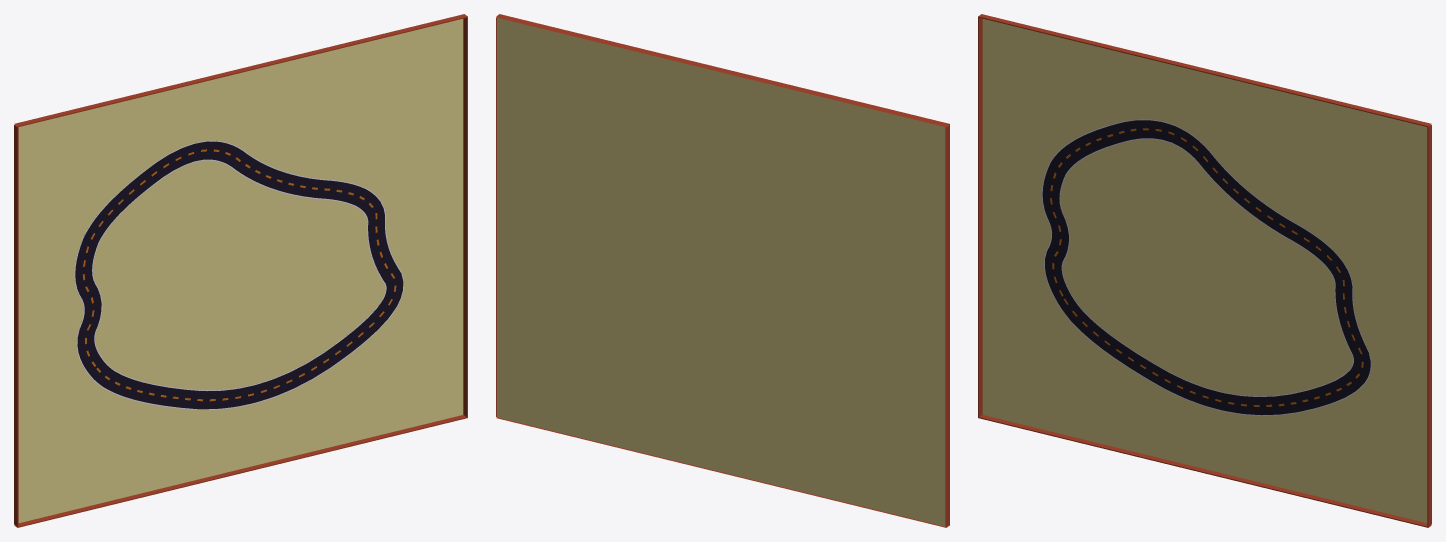
Rendered from track.obj.
The picture shows the model from 3 angles, left to right: view 1: azimuth 30°, elevation 25°; view 2: azimuth 150°, elevation 25°; view 3: azimuth 330°, elevation 25°; orthographic projection.
Size of the model in its own units: 22.77 by 19.41 by 0.3.
Materials: 5 (5 with a texture image).
